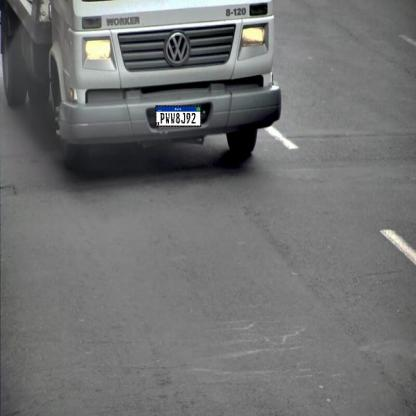PlacaM: (155, 105, 202, 127)
